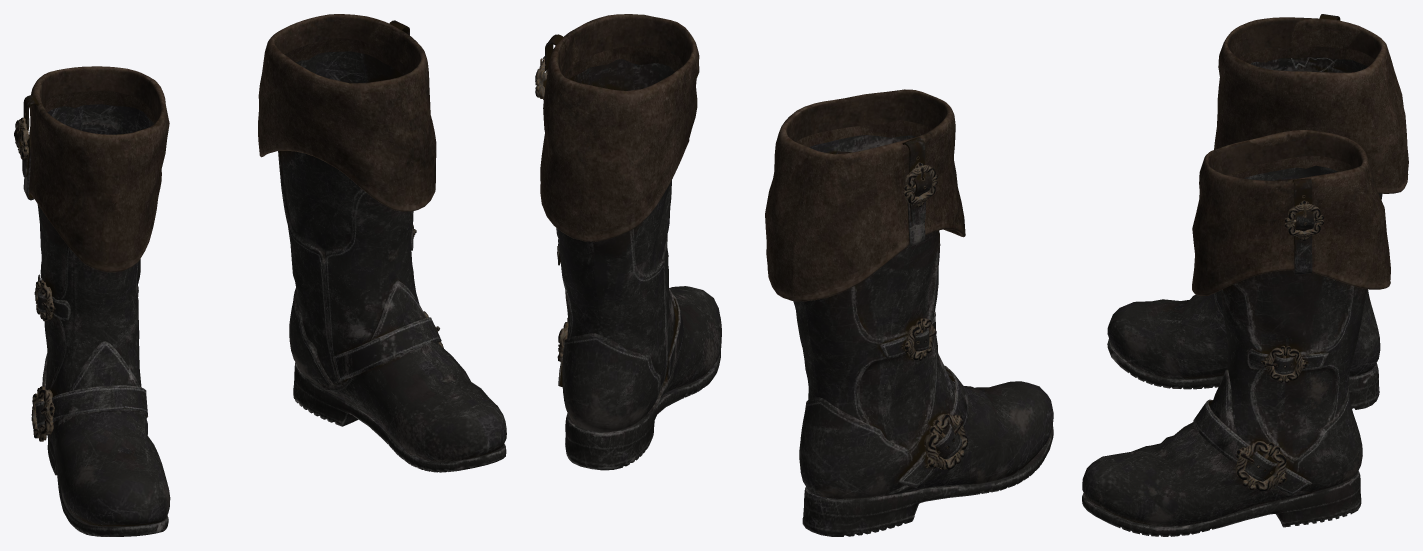
Rendered from Pirate boots.fbx.
The picture shows the model from 3 angles, left to right: view 1: azimuth 30°, elevation 25°; view 2: azimuth 150°, elevation 25°; view 3: azimuth 270°, elevation 25°; orthographic projection. The views are drawn at different scales.
Visible parts, largest first — view 1: desirefx.me_006, desirefx.me_003, desirefx.me_001, desirefx.me_002, desirefx.me_005; view 2: desirefx.me_006, desirefx.me_003, desirefx.me_002, desirefx.me_001, desirefx.me_005; view 3: desirefx.me_006, desirefx.me_003, desirefx.me_002, desirefx.me_001, desirefx.me_005.
Boxes of the visible parts, bbox=[...] form: desirefx.me_006: bbox=[37, 51, 506, 526]; desirefx.me_003: bbox=[29, 14, 436, 272]; desirefx.me_001: bbox=[14, 20, 441, 428]; desirefx.me_002: bbox=[47, 362, 506, 536]; desirefx.me_005: bbox=[15, 117, 443, 441]; desirefx.me_006: bbox=[556, 59, 1053, 498]; desirefx.me_003: bbox=[540, 14, 965, 301]; desirefx.me_002: bbox=[565, 350, 1053, 536]; desirefx.me_001: bbox=[535, 34, 968, 487]; desirefx.me_005: bbox=[535, 56, 968, 469]; desirefx.me_006: bbox=[1082, 57, 1382, 526]; desirefx.me_003: bbox=[1192, 17, 1408, 295]; desirefx.me_002: bbox=[1082, 339, 1379, 536]; desirefx.me_001: bbox=[1193, 14, 1340, 495]; desirefx.me_005: bbox=[1235, 200, 1323, 491].
Size of the model in its own units: 9.25 by 8.17 by 6.81.
